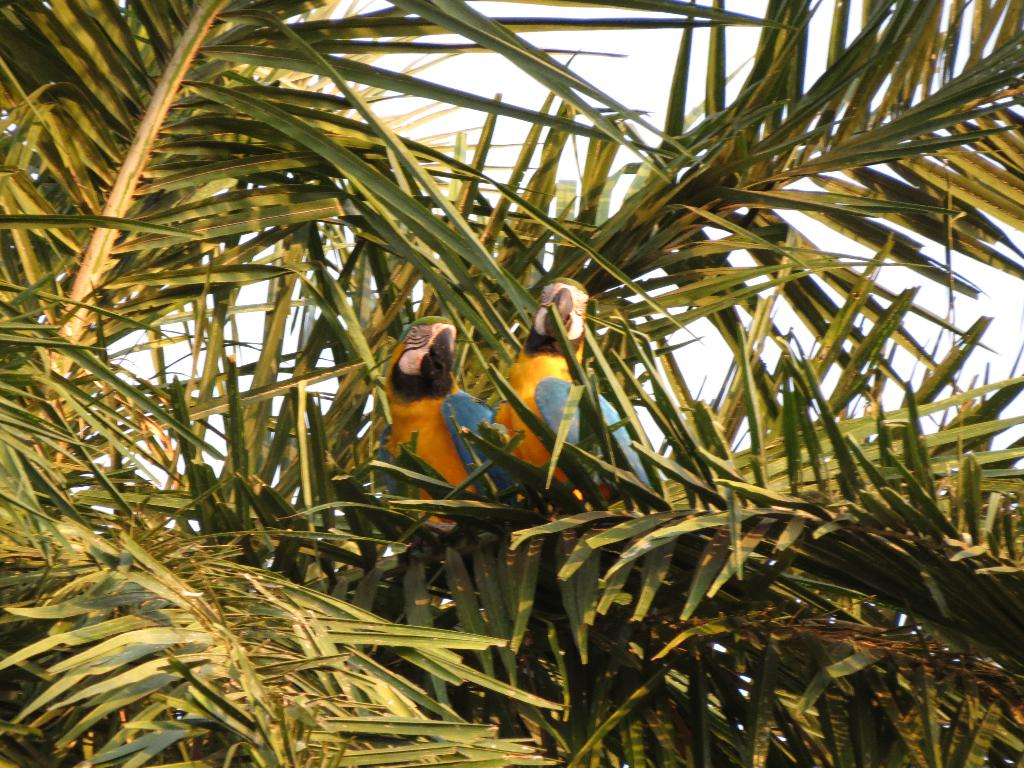person: (372, 313, 514, 503)
